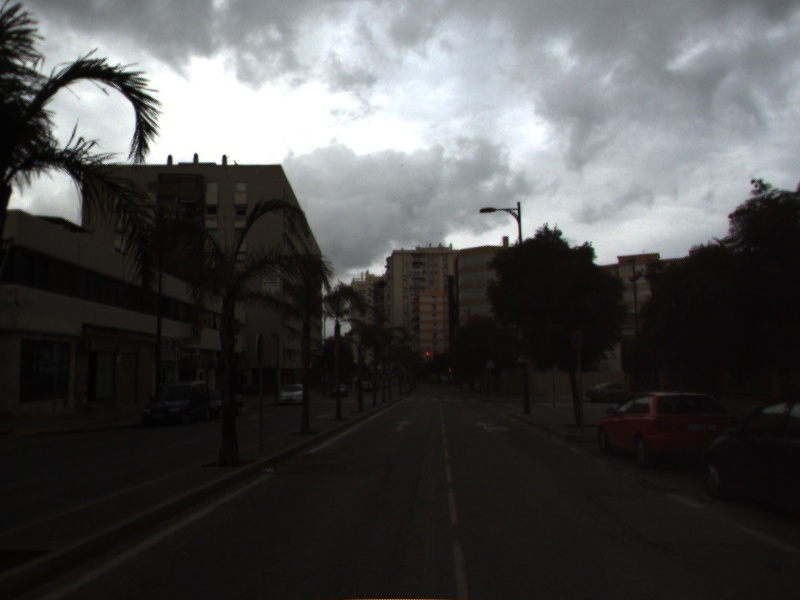STRAIGHT: (392, 418, 416, 434)
STRAIGHT_RIGHT: (473, 419, 512, 434)
